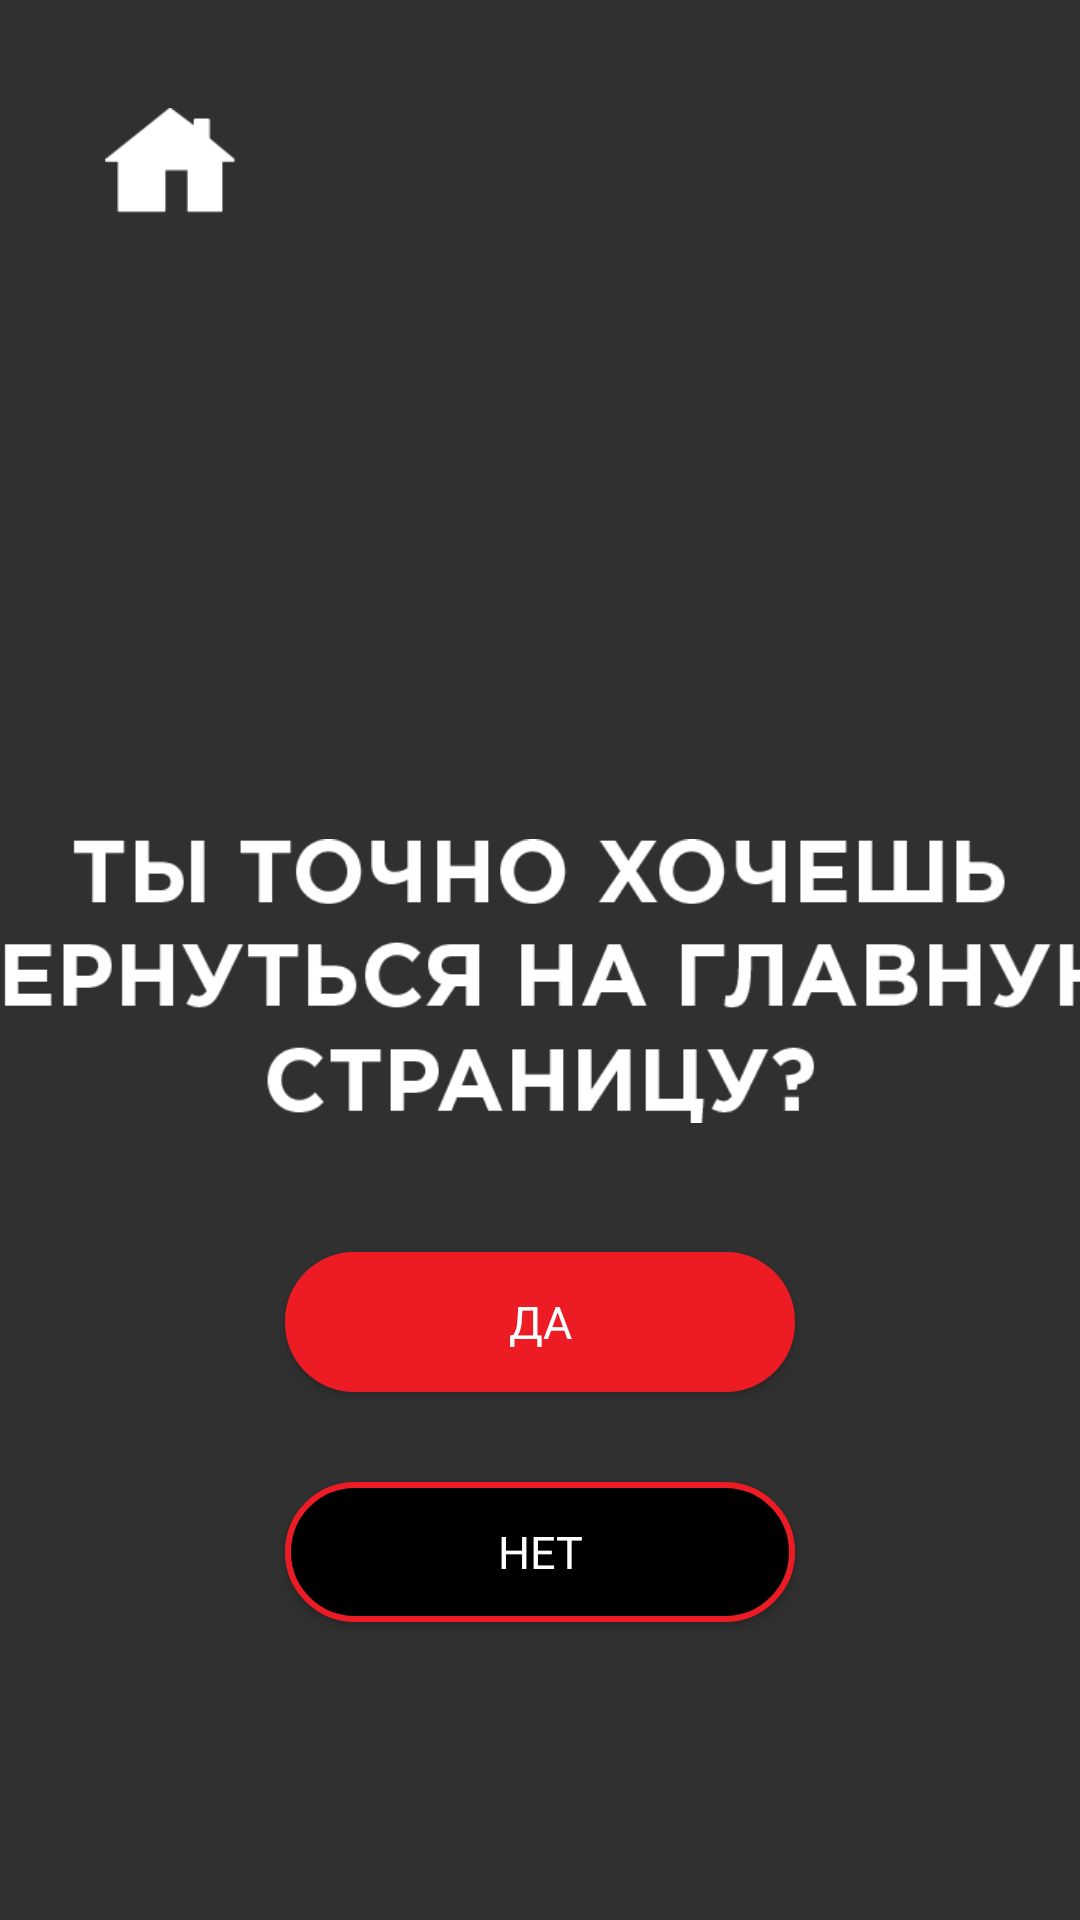

Icon bounding boxes for this 1080 × 1920 phone screenshot, format bbox=[x1, y1, x2, y2]:
house: bbox=[105, 108, 235, 213]
